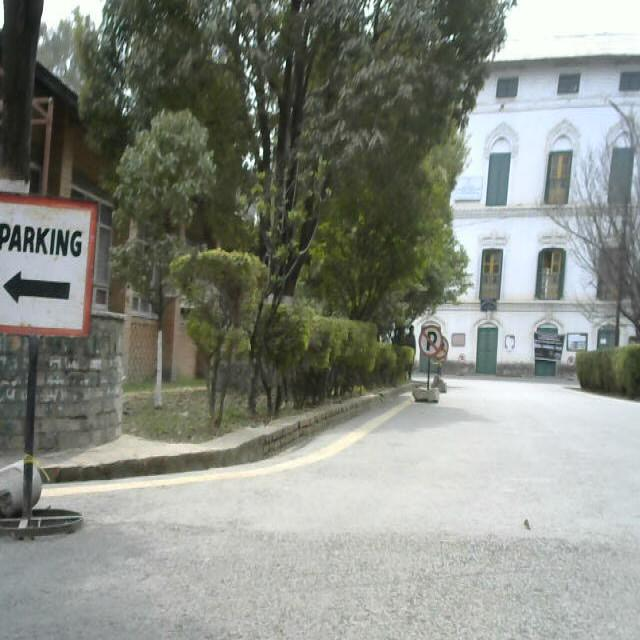Buildings: (458, 56, 640, 391)
NoParking: (413, 323, 448, 402)
Parking: (1, 192, 95, 568)
Road: (89, 386, 639, 640)
trees: (102, 0, 497, 388)
